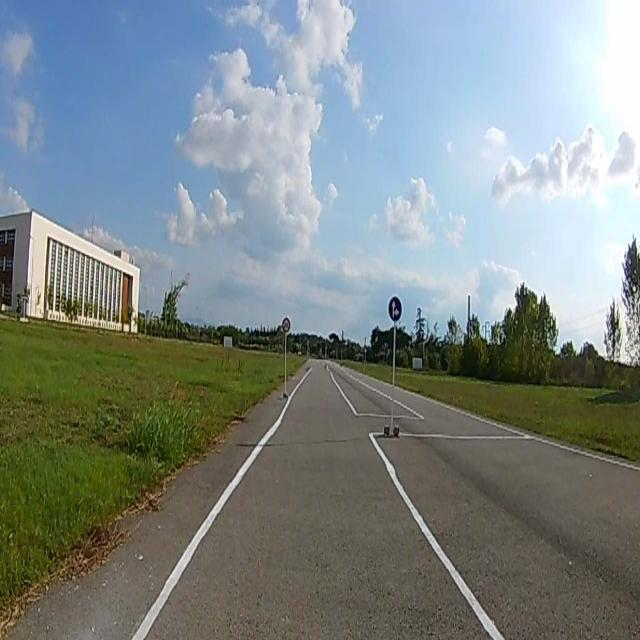ilerisag: (388, 298, 403, 322)
